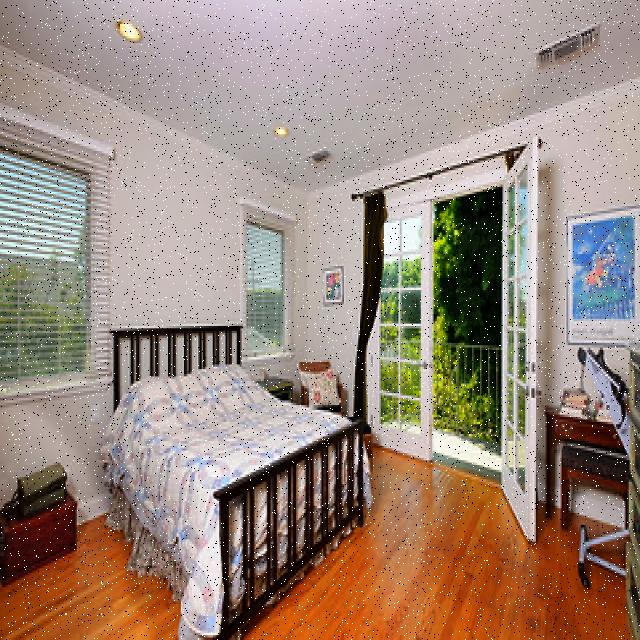bed: (108, 328, 358, 622)
